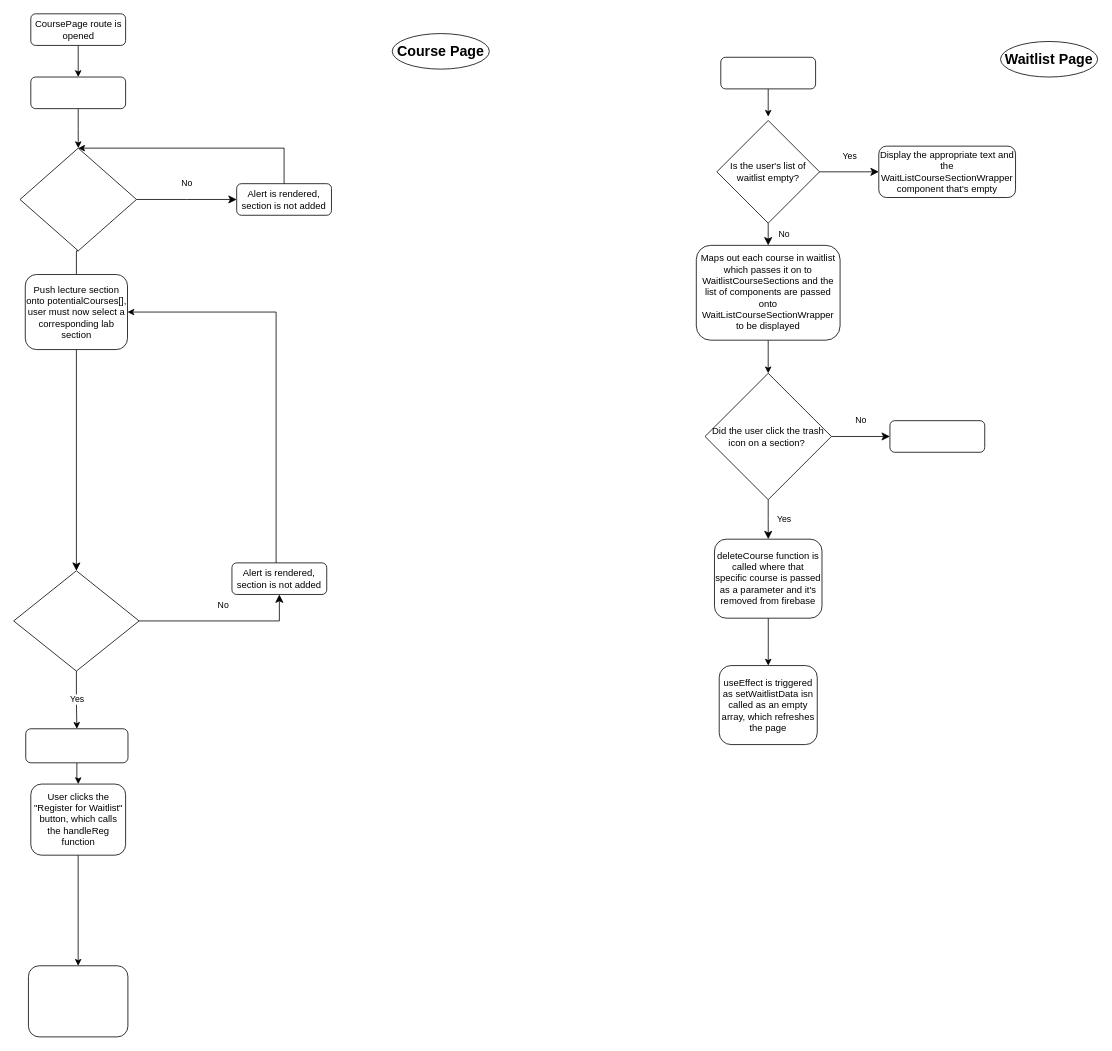
Image size: 1112x1051. Some labels were removed from this diagram. The shapes that lost their labels are listed below. From the top down, each one's centre as x and y in pixels, then its label:
[78,92]: User wants to add a course section to their waitlist
[768,72]: User opens the waitlist tab
[78,199]: Is the selected course section of type "Lecture?"
[937,436]: Do nothing
[76,620]: Is the selected course section of type "Lab?"
[76,745]: Push quiz section onto potentialCourses[]
[78,1001]: Waitlist array is added onto firebase, saved as the student's waitlist schedule
